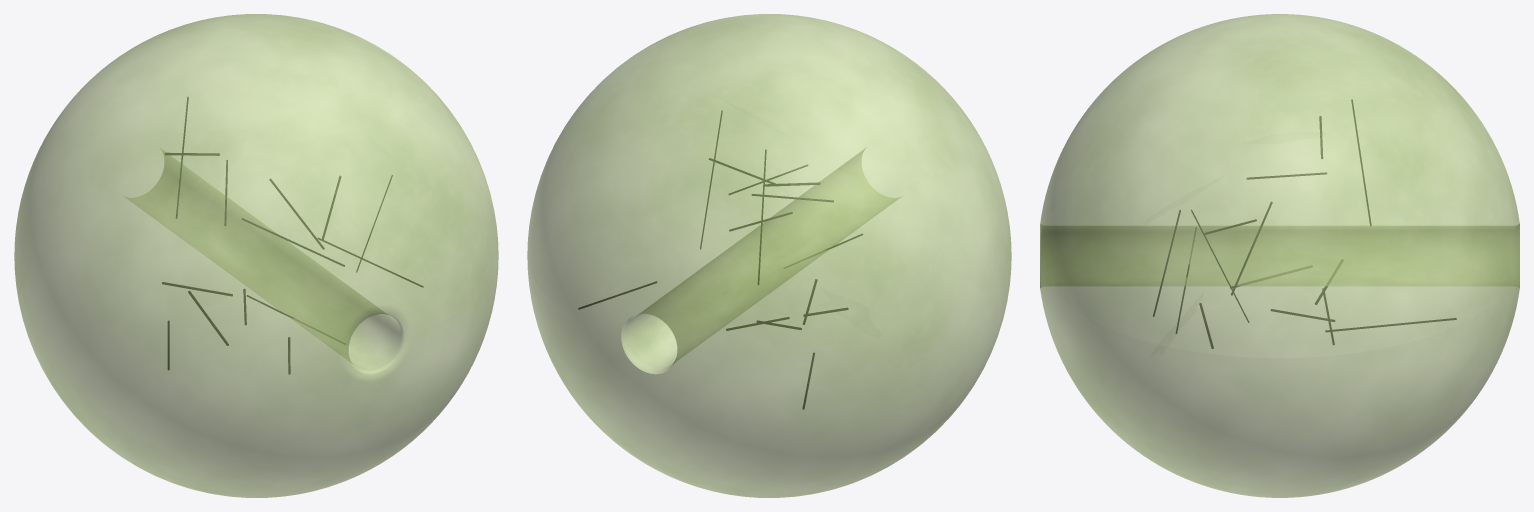
The model's file is prehnite.glb.
3 views of the same model, side by side, from view 1: azimuth 30°, elevation 25°; view 2: azimuth 150°, elevation 25°; view 3: azimuth 270°, elevation 25° (orthographic).
Visible parts, largest first — view 1: prehnite.001, prehnite_WEB_needles_14; view 2: prehnite.001, prehnite_WEB_needles_14; view 3: prehnite.001, prehnite_WEB_needles_14.
Part boxes in pixels (x1,y1,x2,y2): prehnite.001: (14,14,498,497); prehnite_WEB_needles_14: (162,97,423,374); prehnite.001: (527,14,1011,497); prehnite_WEB_needles_14: (578,110,862,409); prehnite.001: (1040,14,1519,497); prehnite_WEB_needles_14: (1153,100,1456,348).
Bounding box in the file's own units: 0.008 × 0.008 × 0.00793.
Materials: 3 (1 with a texture image).
